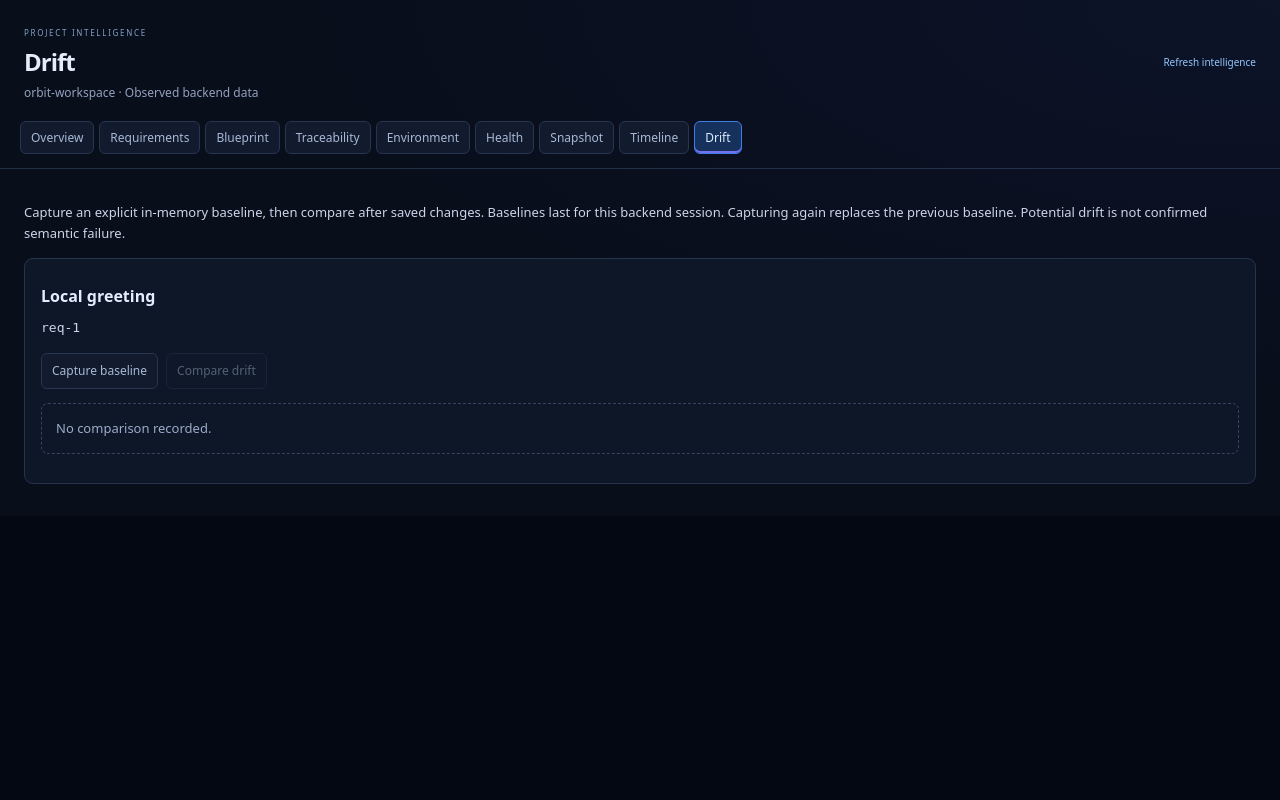
Scenario: requires an explicit baseline before comparison and presents NO_DRIFT unchanged
Expected: the button "Refresh intelligence" is enabled, [1163,50,1256,74]
Expected: the button "Compare drift" is disabled, [166,353,267,388]
Click the button "Capture baseline" at (100, 371), box [41,353,158,388]
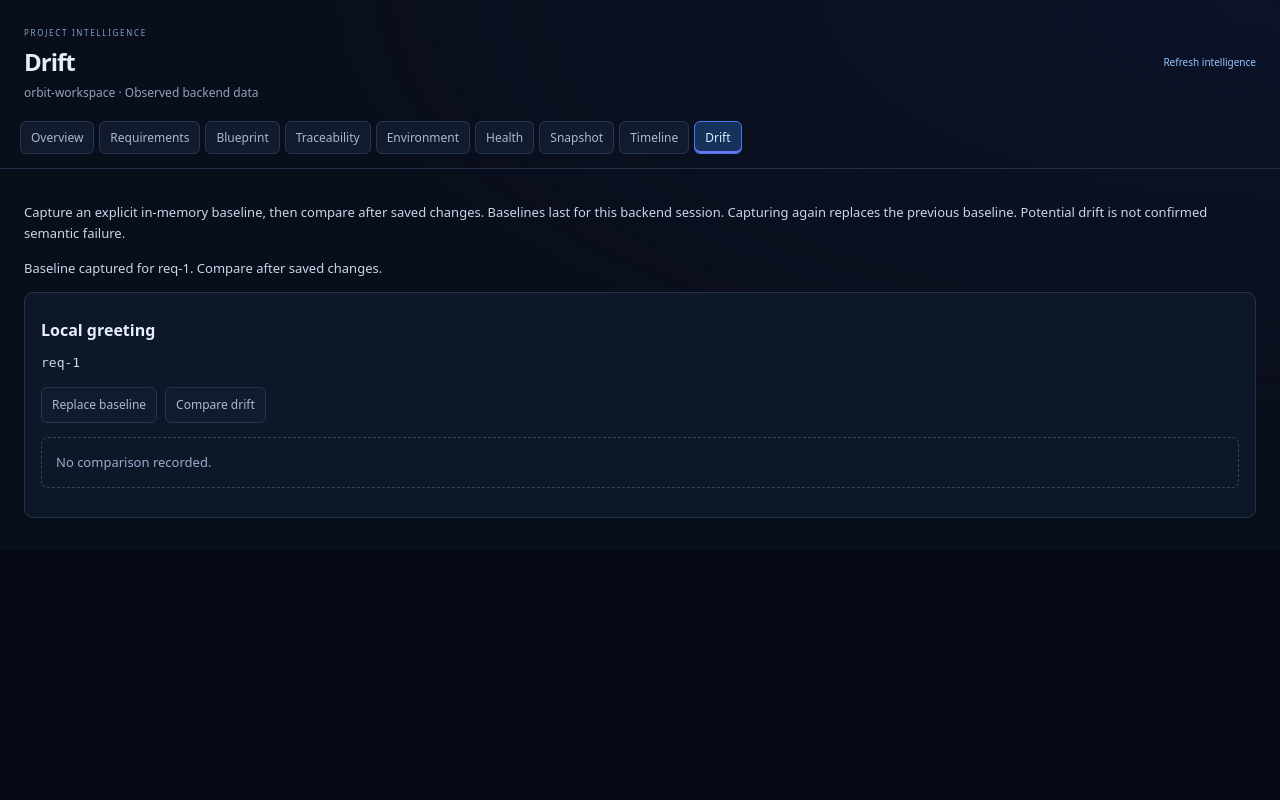
Expected: the button "Replace baseline" is shown, [41,387,157,423]
Click the button "Compare drift" at (215, 405), box [165,387,266,423]
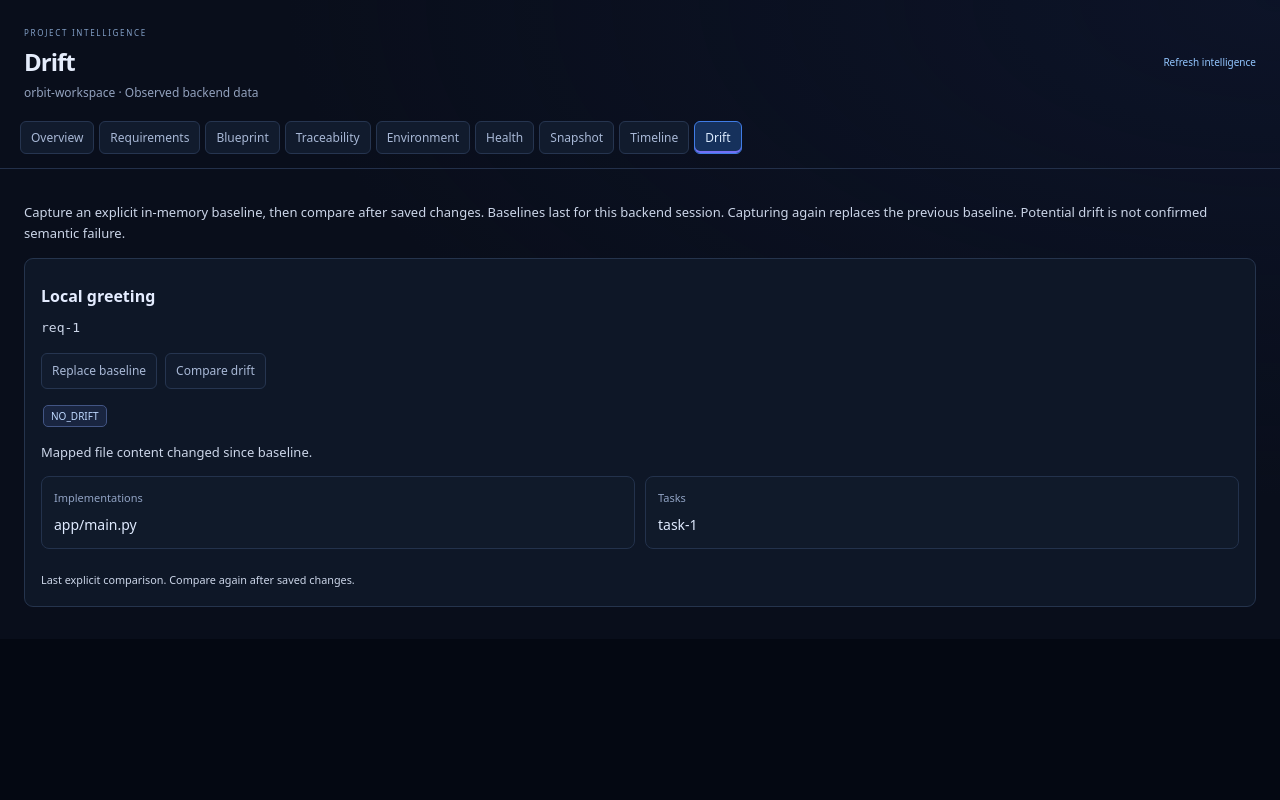
Expected: the text "NO_DRIFT" is shown, [43,404,106,427]
Expected: the text "app/main.py" is shown, [54,515,137,534]
